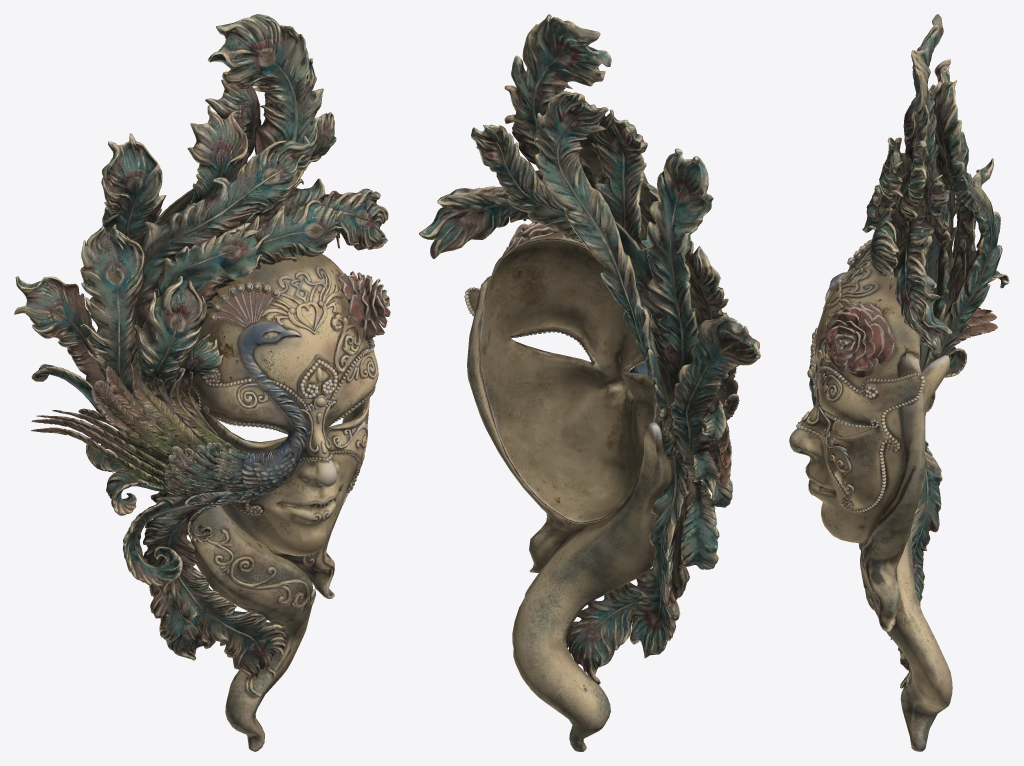
The model's file is mask.glb.
The picture shows the model from 3 angles, left to right: view 1: azimuth 30°, elevation 25°; view 2: azimuth 150°, elevation 25°; view 3: azimuth 270°, elevation 25°; orthographic projection.
Visible parts, largest first — view 1: yumao3_low_lambert3_0, yumao3_low_lambert2_0, yumao3_low_lambert1_0, yumao3_low_lambert4_0, zhu_low_lambert5_0; view 2: yumao3_low_lambert1_0, yumao3_low_lambert4_0, yumao3_low_lambert3_0, yumao3_low_lambert2_0; view 3: yumao3_low_lambert1_0, yumao3_low_lambert4_0, yumao3_low_lambert2_0, yumao3_low_lambert3_0, zhu_low_lambert5_0.
Boxes of the visible parts, bbox=[...] form: yumao3_low_lambert3_0: bbox=[14, 133, 286, 696]; yumao3_low_lambert2_0: bbox=[31, 266, 390, 610]; yumao3_low_lambert1_0: bbox=[187, 254, 378, 751]; yumao3_low_lambert4_0: bbox=[133, 14, 388, 378]; zhu_low_lambert5_0: bbox=[185, 338, 375, 515]; yumao3_low_lambert1_0: bbox=[467, 232, 671, 751]; yumao3_low_lambert4_0: bbox=[419, 14, 679, 460]; yumao3_low_lambert3_0: bbox=[566, 148, 760, 684]; yumao3_low_lambert2_0: bbox=[502, 222, 739, 569]; yumao3_low_lambert1_0: bbox=[789, 259, 952, 751]; yumao3_low_lambert4_0: bbox=[870, 14, 1002, 370]; yumao3_low_lambert2_0: bbox=[801, 239, 1009, 627]; yumao3_low_lambert3_0: bbox=[862, 59, 993, 688]; zhu_low_lambert5_0: bbox=[796, 331, 925, 512].
Bounding box in the file's own units: 0.0329 × 0.0648 × 0.0179.
Materials: 5 (5 with a texture image).
